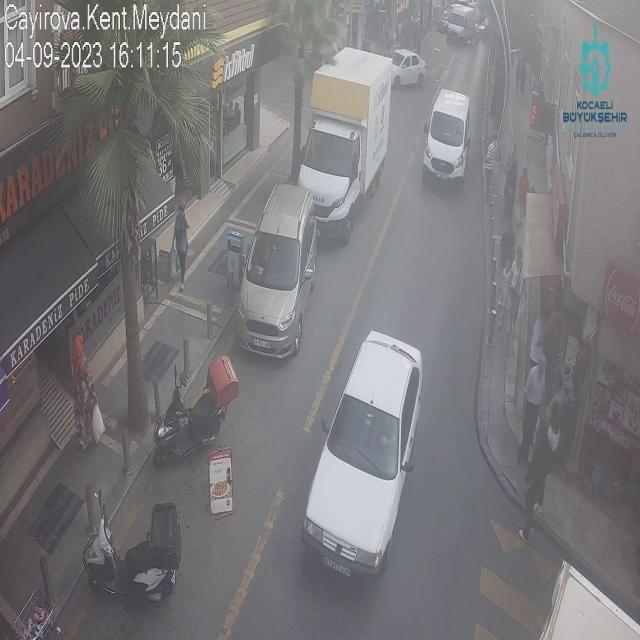Car: (295, 336, 433, 582), (220, 193, 327, 363), (416, 80, 493, 202), (384, 37, 429, 90)
Cycle: (70, 484, 194, 606), (138, 352, 236, 466)
Truck: (274, 53, 404, 232), (442, 3, 487, 49)
